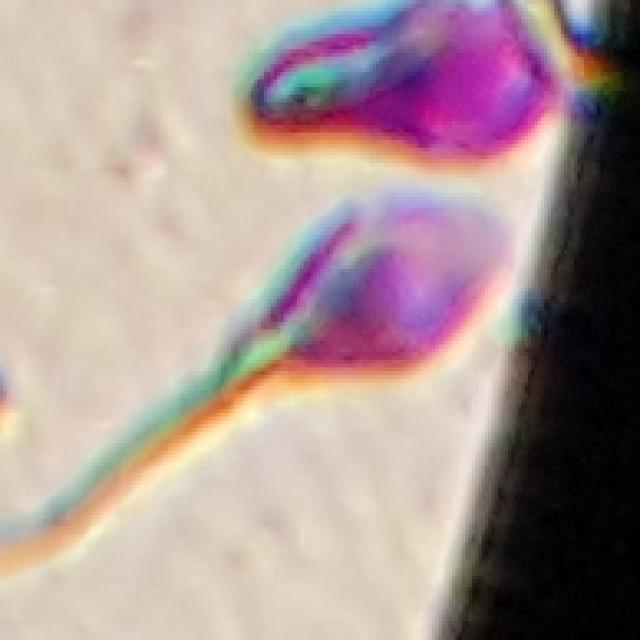abnormal sperm: (240, 2, 603, 171)
normal sperm: (148, 198, 514, 450)
